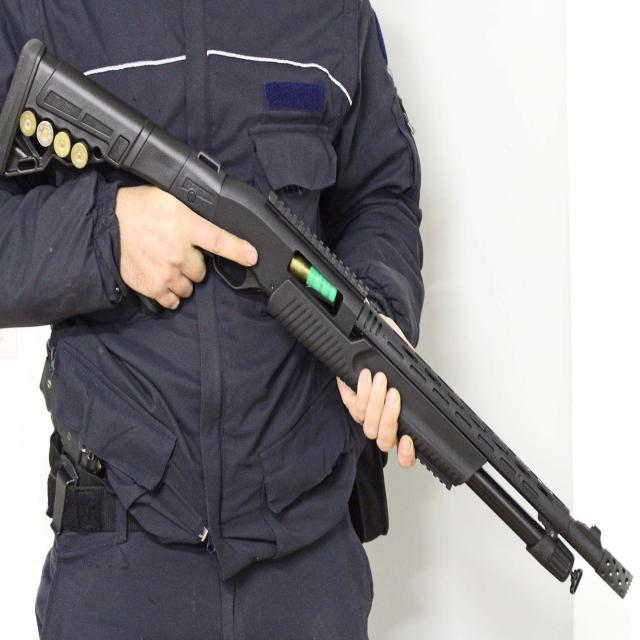Weapon: (0, 38, 638, 607)
